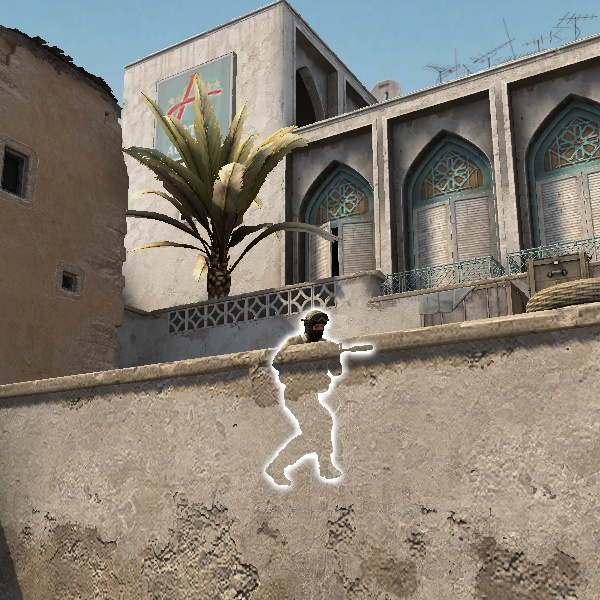ct_head: (295, 308, 335, 343)
